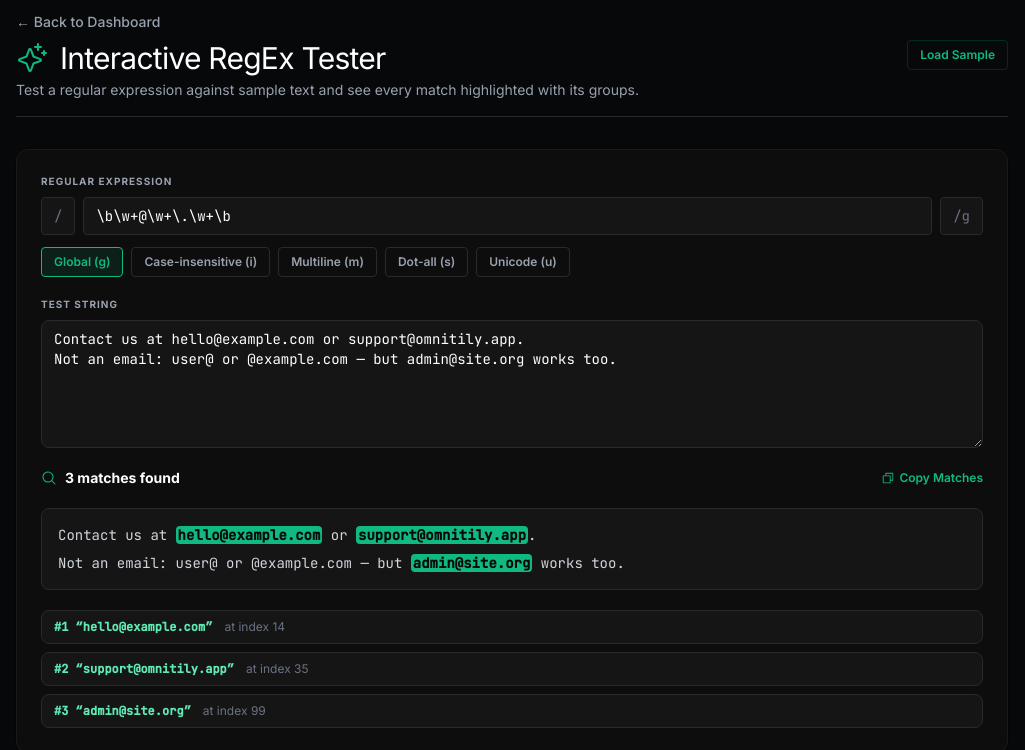
Test case: RegexTester › renders the sample with 3 email matches highlighted
The width and height of the screenshot is (1025, 750).
Expected: the text "3 matches found" is shown, [41, 468, 180, 488]
Replace the text in the field labelled "Regular Expression" with "([a-z" at (508, 216), box [83, 197, 932, 235]
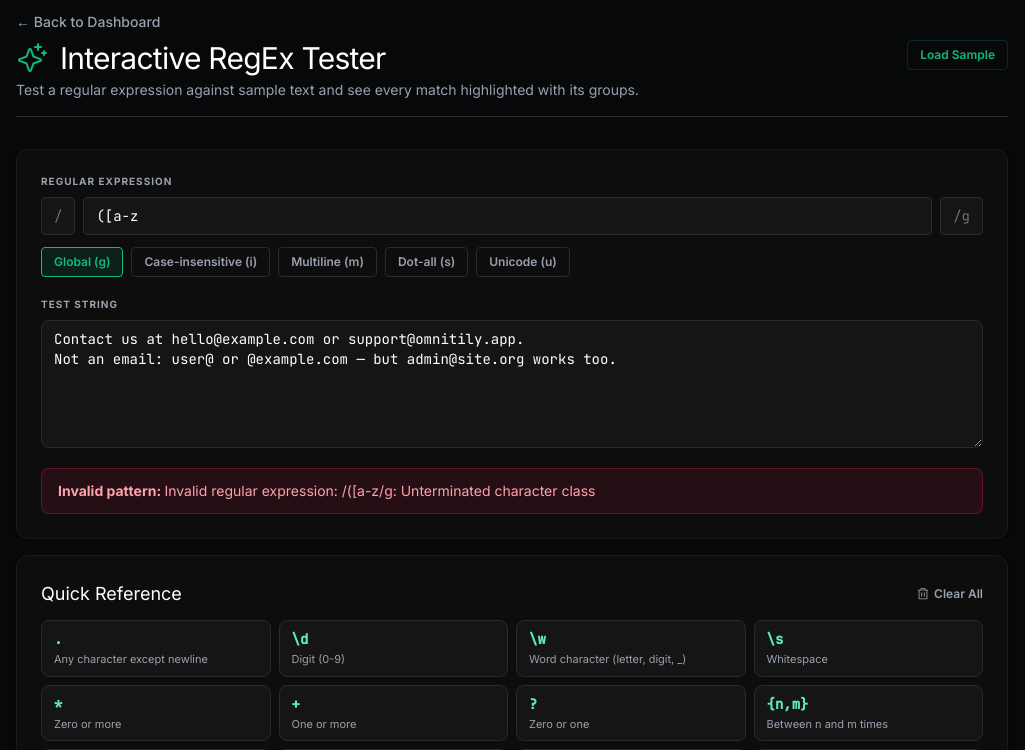
Result: the element with test id "regex-error" is shown at [41, 468, 983, 514]
